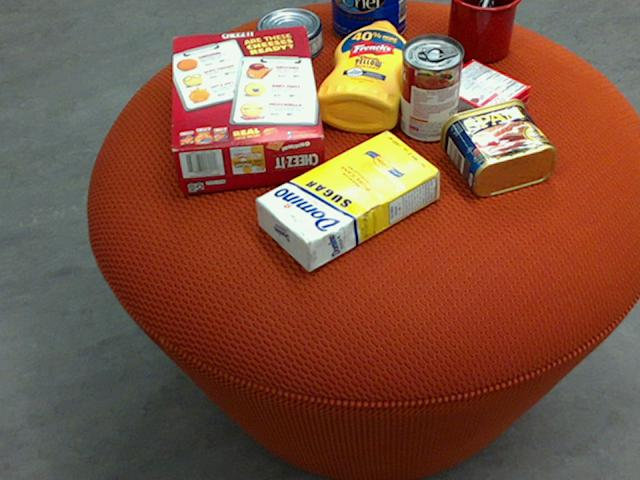cracker_box: (168, 23, 325, 191)
gelatin_box: (435, 60, 531, 129)
large_marker: (460, 0, 492, 54)
master_chef_can: (330, 0, 405, 42)
mug: (446, 0, 520, 62)
mustard_bottle: (314, 20, 411, 132)
potted_meat_can: (438, 98, 554, 196)
sugar_box: (254, 129, 440, 272)
tomato_soup_can: (400, 33, 462, 140)
tuna_fish_can: (254, 7, 321, 61)
